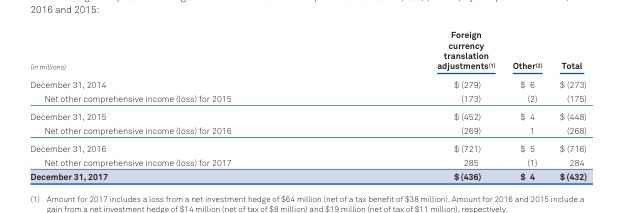table: (29, 28, 586, 181)
table column: (29, 28, 333, 181), (333, 28, 503, 181), (503, 28, 550, 181), (550, 28, 586, 181)
table column header: (29, 28, 586, 74)
table row: (29, 28, 586, 74), (29, 74, 586, 91), (29, 106, 586, 122), (29, 122, 586, 138), (29, 138, 586, 154), (29, 91, 586, 106), (29, 154, 586, 168), (29, 168, 586, 181)
